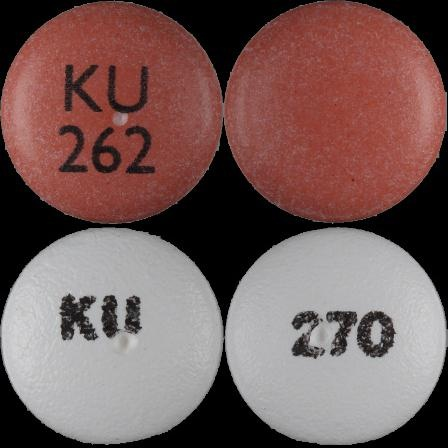62175-262: (0, 0, 224, 224)
